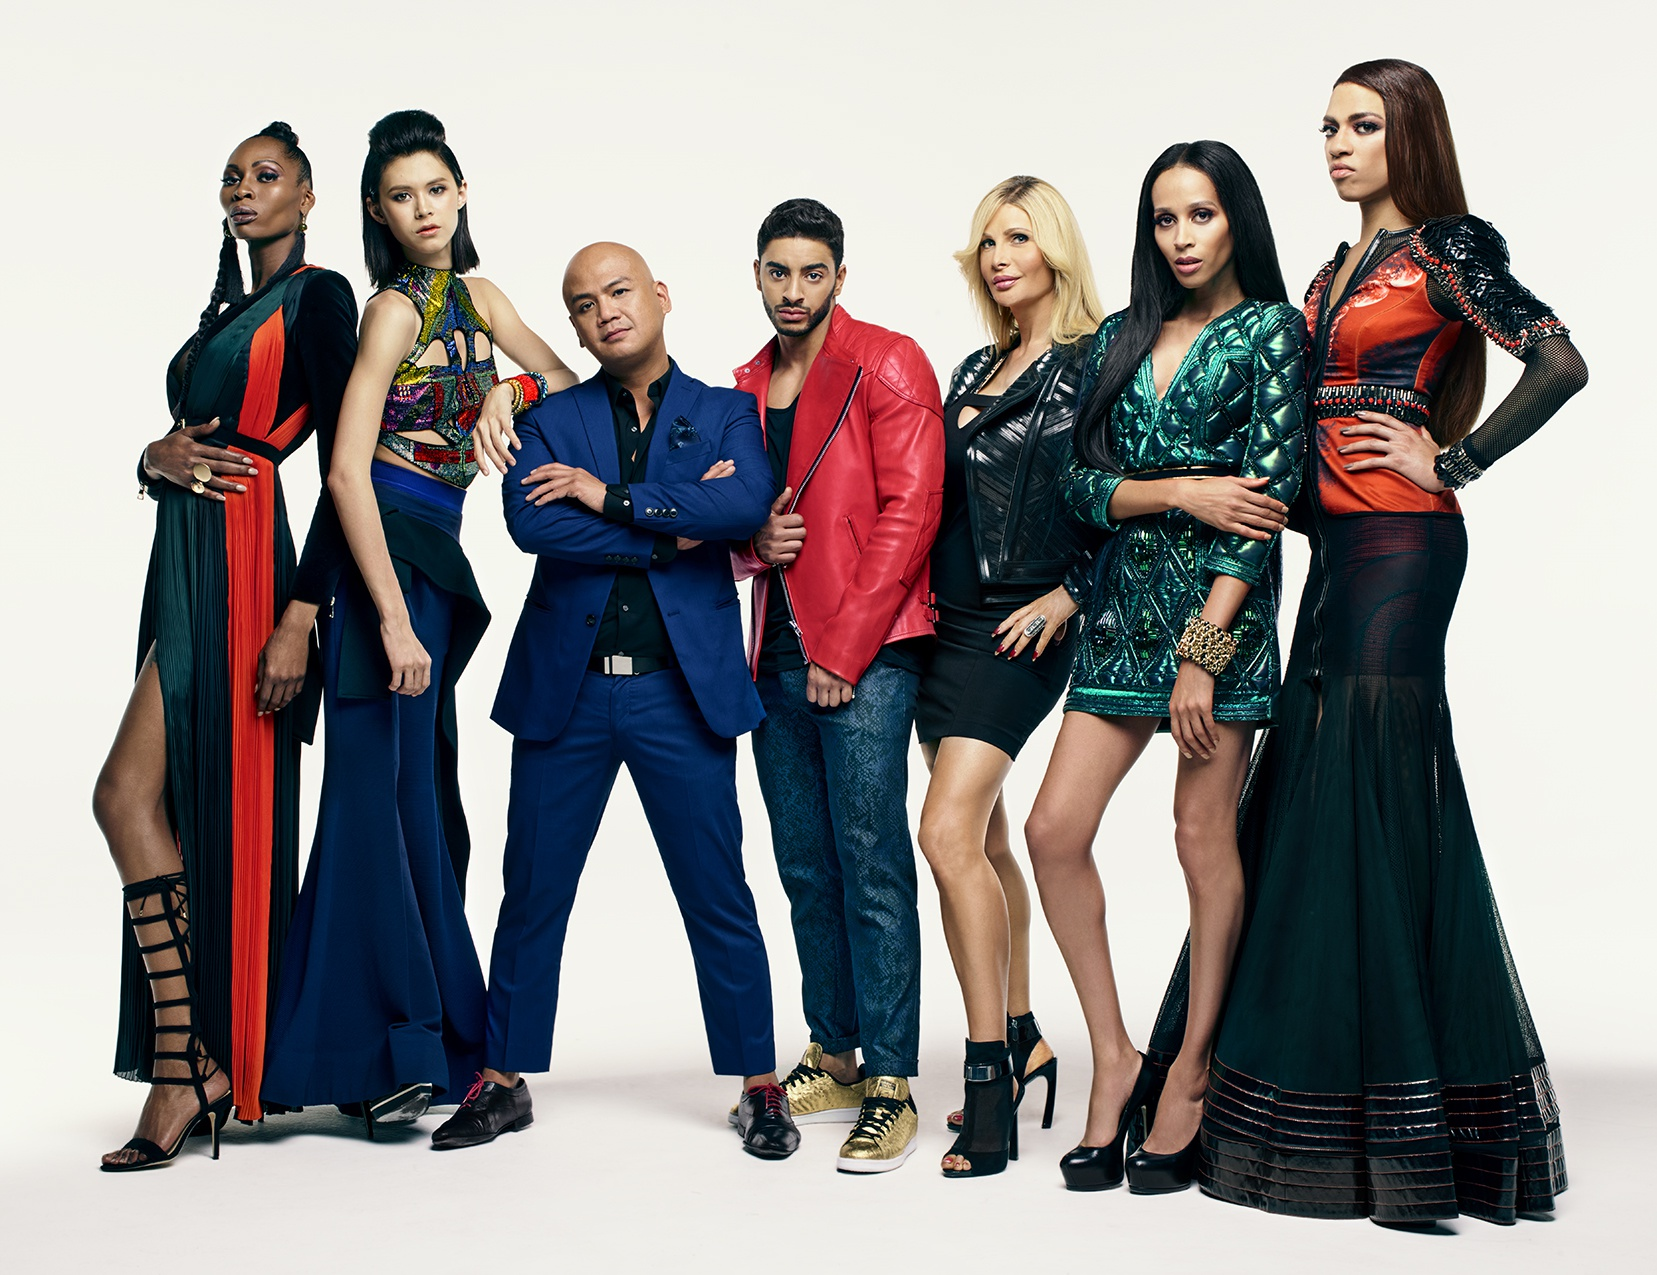bad: (1299, 96, 1390, 186), (205, 146, 295, 236), (962, 216, 1052, 305), (563, 265, 652, 355), (374, 166, 463, 254), (1141, 186, 1230, 275), (760, 254, 835, 329)
